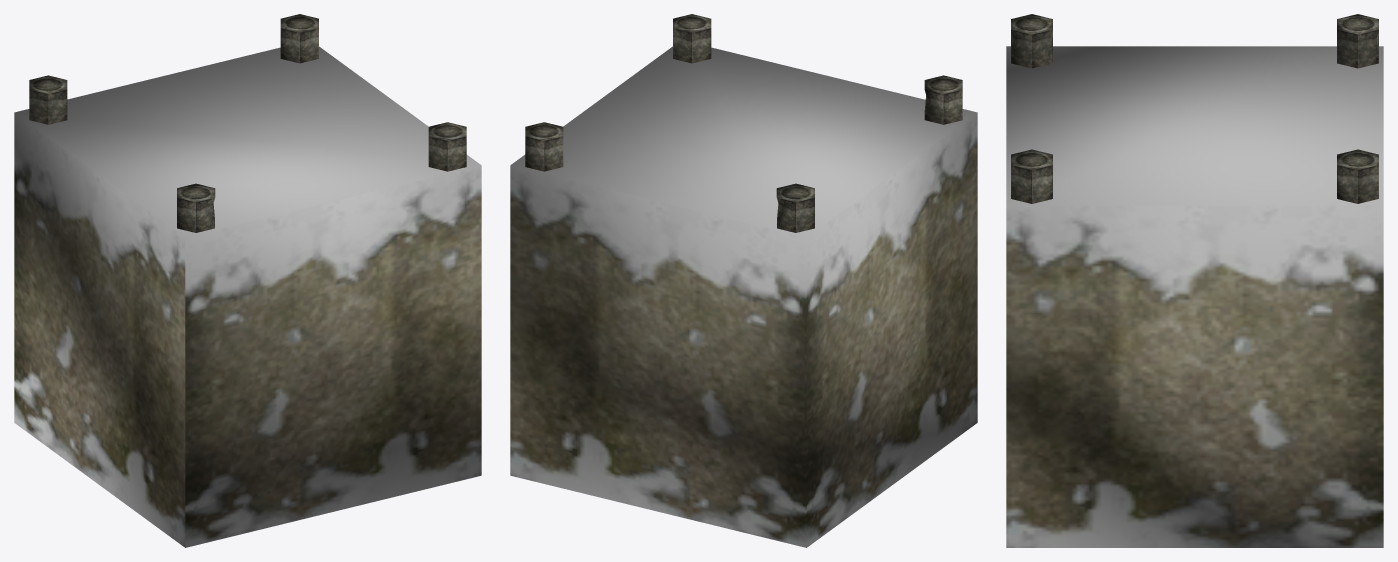
The model's file is landmark_grandstone02_lod_01.fbx.
3 views of the same model, side by side, from view 1: azimuth 30°, elevation 25°; view 2: azimuth 150°, elevation 25°; view 3: azimuth 270°, elevation 25° (orthographic). The views are drawn at different scales.
Visible parts, largest first — view 1: Box02; view 2: Box02; view 3: Box02.
Part boxes in pixels (x1,y1,x2,y2): Box02: [14, 14, 481, 547]; Box02: [510, 14, 977, 547]; Box02: [1006, 14, 1383, 547].
Bounding box in the file's own units: 4.74 × 5.21 × 4.74.
